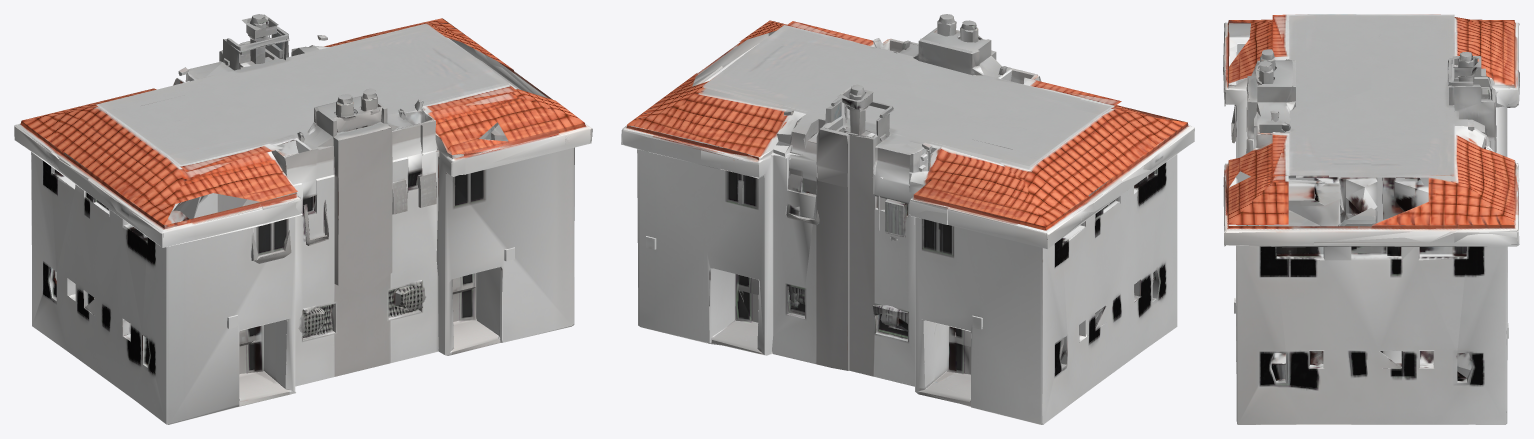
Rendered from placed_bld_556855837.glb.
The picture shows the model from 3 angles, left to right: view 1: azimuth 30°, elevation 25°; view 2: azimuth 150°, elevation 25°; view 3: azimuth 270°, elevation 25°; orthographic projection.
Parts seen in each view (by area): view 1: bld_556855837; view 2: bld_556855837; view 3: bld_556855837.
Part boxes in pixels (box(x1,y1,x2,y2)): bld_556855837: box(14, 14, 592, 424); bld_556855837: box(621, 14, 1194, 424); bld_556855837: box(1223, 14, 1519, 424).
Size of the model in its own units: 11.15 by 6.8 by 6.66.
1 material, 1 textured.
